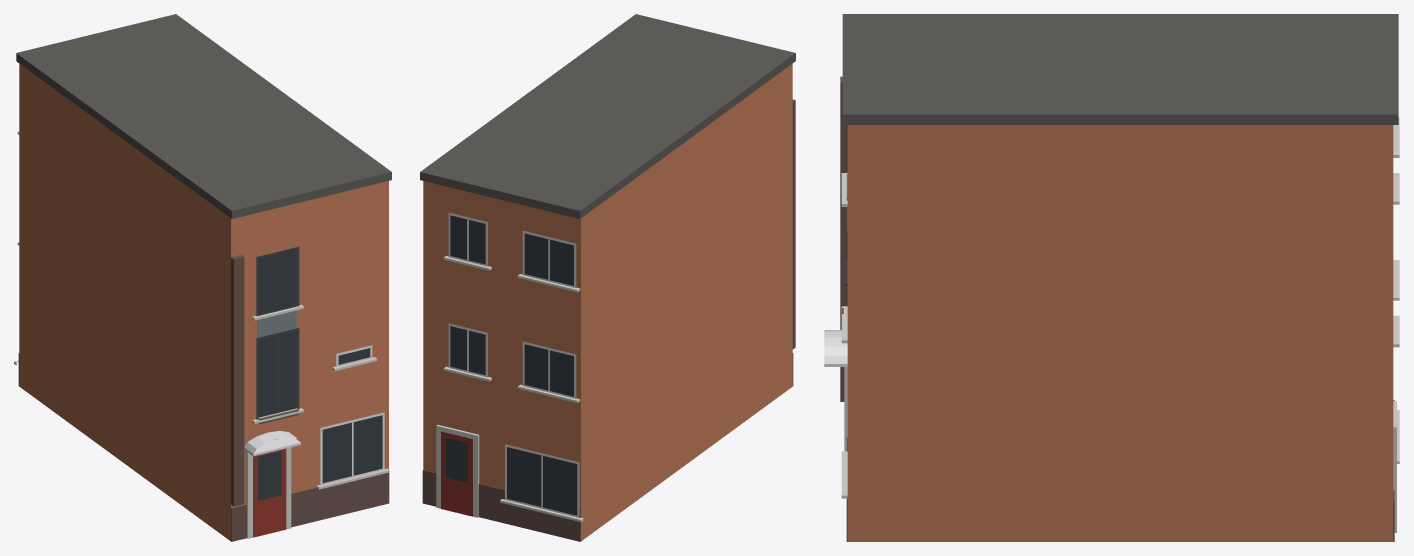
The model's file is nw-ao-slot__orange__3__flat__long__solid__f0d0.glb.
3 views of the same model, side by side, from view 1: azimuth 30°, elevation 25°; view 2: azimuth 150°, elevation 25°; view 3: azimuth 270°, elevation 25° (orthographic). The views are drawn at different scales.
Parts seen in each view (by area): view 1: nw-ao-slot__orange__3__flat__long__solid__f0d0; view 2: nw-ao-slot__orange__3__flat__long__solid__f0d0; view 3: nw-ao-slot__orange__3__flat__long__solid__f0d0.
Boxes of the visible parts, bbox=[...] form: nw-ao-slot__orange__3__flat__long__solid__f0d0: bbox=[14, 14, 391, 541]; nw-ao-slot__orange__3__flat__long__solid__f0d0: bbox=[420, 14, 795, 541]; nw-ao-slot__orange__3__flat__long__solid__f0d0: bbox=[824, 14, 1399, 541].
Bounding box in the file's own units: 4.58 × 9 × 10.97.
